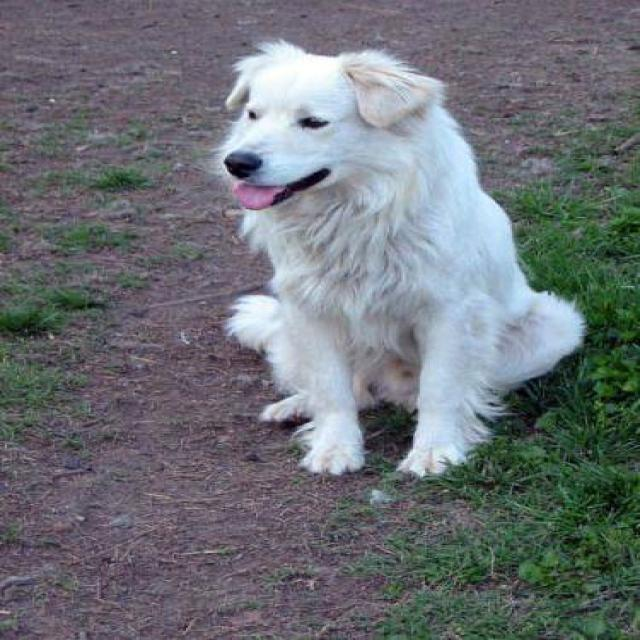Dog: (217, 41, 446, 214)
